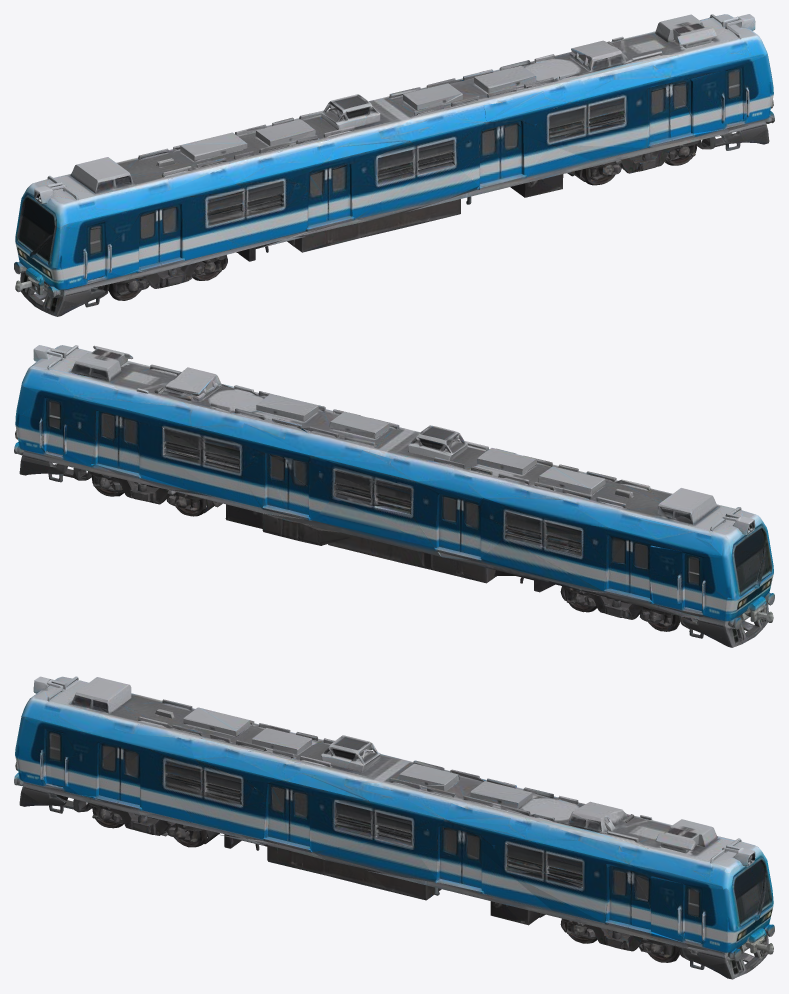
File: metro-car.glb
3 renders of one model, top to bottom at view 1: azimuth 30°, elevation 25°; view 2: azimuth 150°, elevation 25°; view 3: azimuth 330°, elevation 25°, orthographic.
Bounding box in the file's own units: 1.9 × 0.3261 × 0.2016.
1 material, 1 textured.
